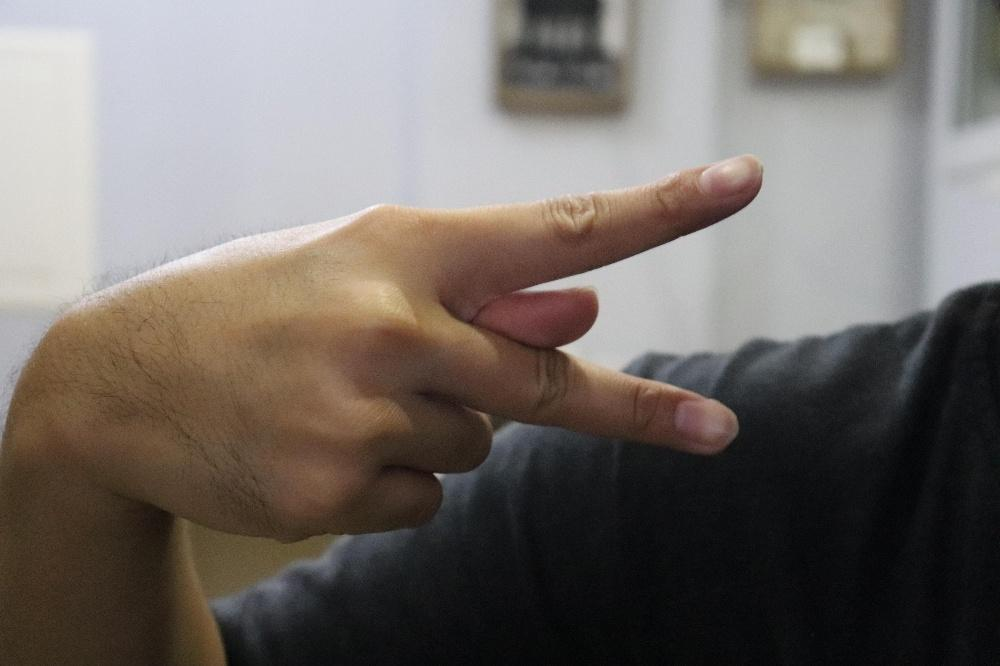k: (58, 153, 762, 544)
